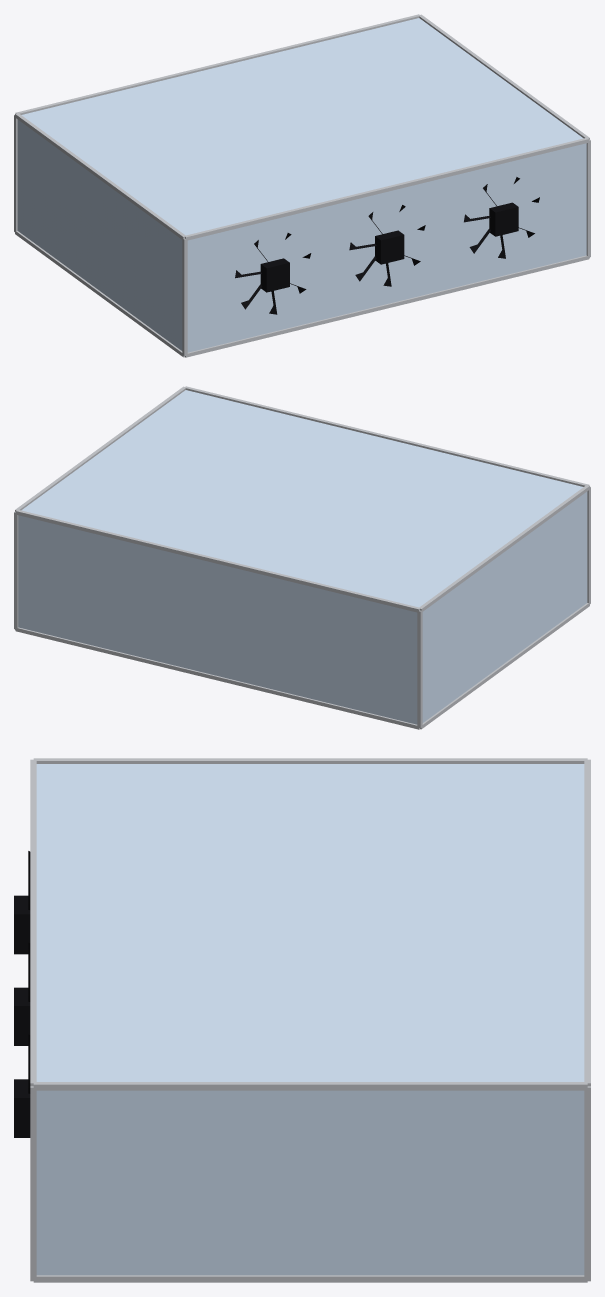
File: verified_design.glb
3 renders of one model, top to bottom at view 1: azimuth 30°, elevation 25°; view 2: azimuth 150°, elevation 25°; view 3: azimuth 270°, elevation 25°, orthographic. The views are drawn at different scales.
Visible parts, largest first — view 1: enclosure, enclosure_frame, fan_2, fan_1, fan_3; view 2: enclosure, enclosure_frame; view 3: enclosure, enclosure_frame, fan_3, fan_1, fan_2.
Boxes of the visible parts, box(x1,y1,x2,y2) form: enclosure: box(17, 18, 586, 352); enclosure_frame: box(14, 14, 590, 357); fan_2: box(349, 205, 425, 286); fan_1: box(235, 233, 311, 314); fan_3: box(464, 177, 539, 258); enclosure: box(18, 390, 587, 724); enclosure_frame: box(14, 386, 590, 729); enclosure: box(36, 764, 584, 1275); enclosure_frame: box(30, 758, 590, 1282); fan_3: box(14, 1034, 30, 1137); fan_1: box(14, 851, 30, 954); fan_2: box(14, 942, 30, 1045).
Size of the model in its own units: 190 by 53.8 by 142.
